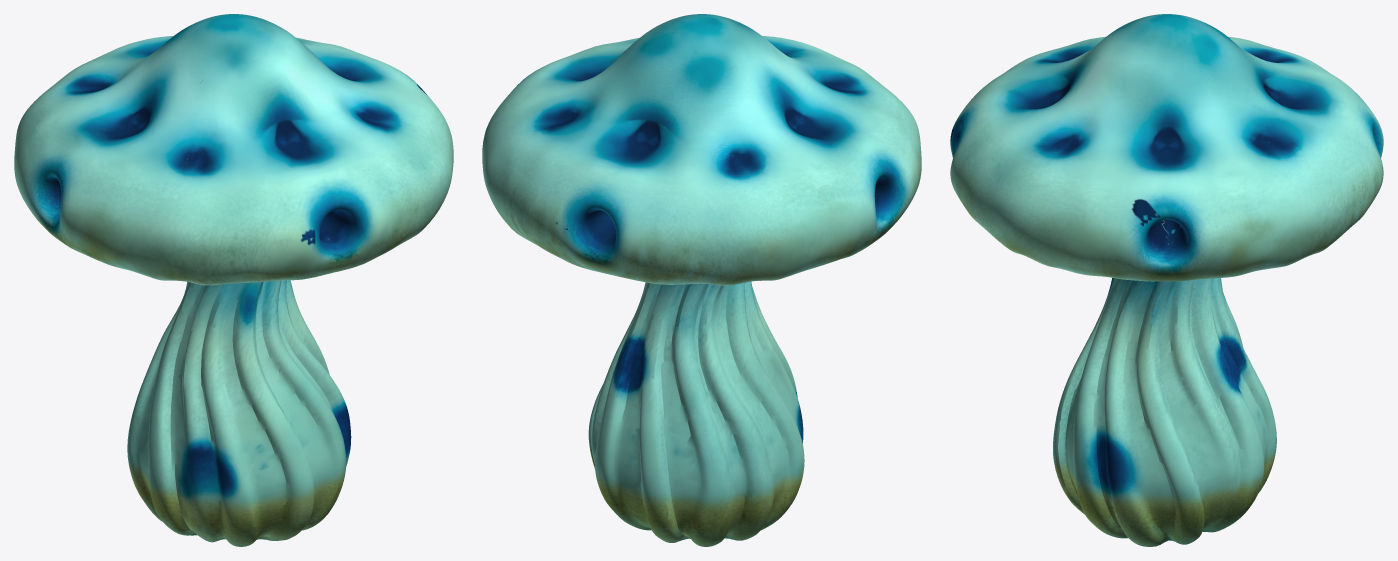
Rendered from Monster1083_room.glb.
3 renders of one model, left to right at view 1: azimuth 30°, elevation 25°; view 2: azimuth 150°, elevation 25°; view 3: azimuth 270°, elevation 25°, orthographic.
Parts seen in each view (by area): view 1: Mushroom; view 2: Mushroom; view 3: Mushroom.
Boxes of the visible parts, bbox=[...] form: Mushroom: bbox=[14, 14, 453, 546]; Mushroom: bbox=[482, 14, 921, 546]; Mushroom: bbox=[950, 14, 1383, 546].
Bounding box in the file's own units: 0.7613 × 0.9559 × 0.761.
1 material, 1 textured.
